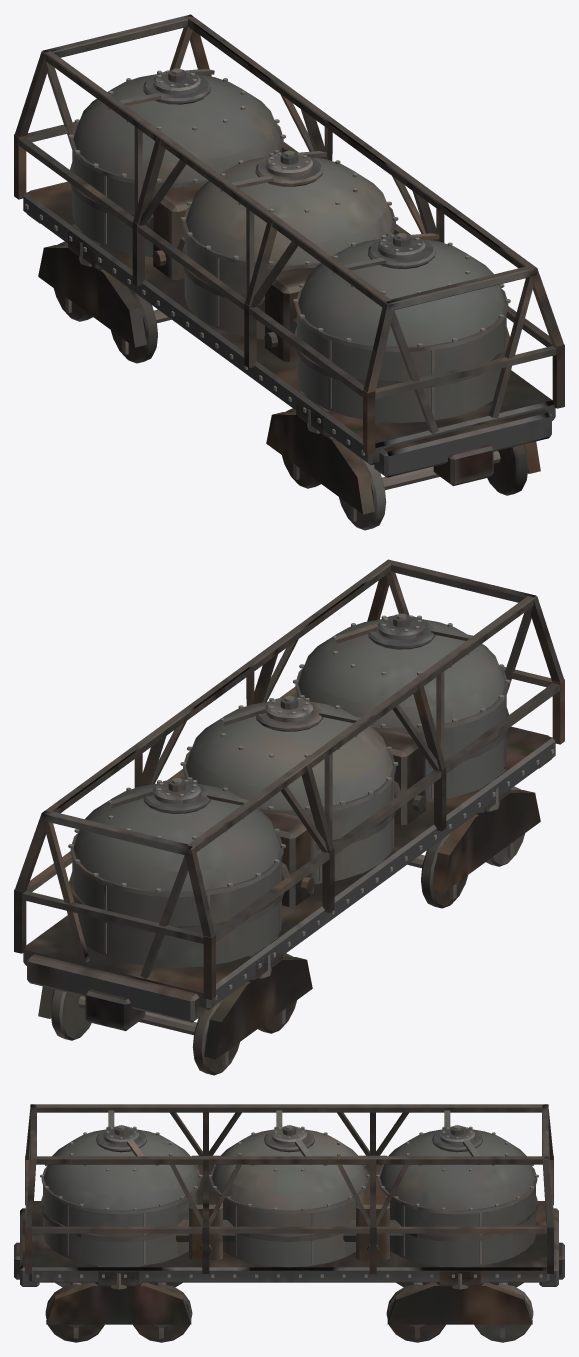
File: fluid-wagon.glb
3 views of the same model, one above another, from view 1: azimuth 30°, elevation 25°; view 2: azimuth 150°, elevation 25°; view 3: azimuth 270°, elevation 25° (orthographic). The views are drawn at different scales.
Parts seen in each view (by area): view 1: body, anim_wheel_rail, anim_wheel_rail.002; view 2: body, anim_wheel_rail.003, anim_wheel_rail.001; view 3: body, anim_wheel_rail.001, anim_wheel_rail.002, anim_wheel_rail, anim_wheel_rail.003.
Boxes of the visible parts, left/top/right/bottom form: body: left=14, top=14, right=564, bottom=514; anim_wheel_rail: left=339, top=444, right=528, bottom=530; anim_wheel_rail.002: left=111, top=287, right=171, bottom=363; body: left=14, top=559, right=564, bottom=1059; anim_wheel_rail.003: left=50, top=989, right=239, bottom=1075; anim_wheel_rail.001: left=407, top=832, right=467, bottom=908; body: left=14, top=1104, right=564, bottom=1324; anim_wheel_rail.001: left=133, top=1282, right=192, bottom=1342; anim_wheel_rail.002: left=386, top=1282, right=445, bottom=1342; anim_wheel_rail: left=45, top=1282, right=104, bottom=1342; anim_wheel_rail.003: left=474, top=1282, right=533, bottom=1342.
Size of the model in its own units: 2 by 2.44 by 6.46.
Materials: 1 (1 with a texture image).
